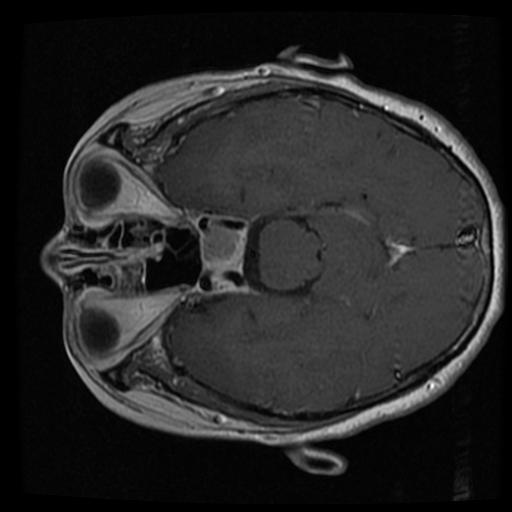pituitary tumour: (198, 225, 245, 271)
